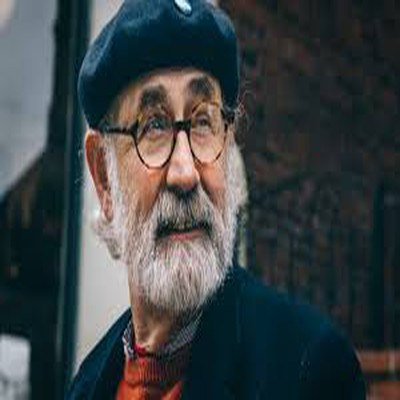eywear: (105, 92, 248, 155)
